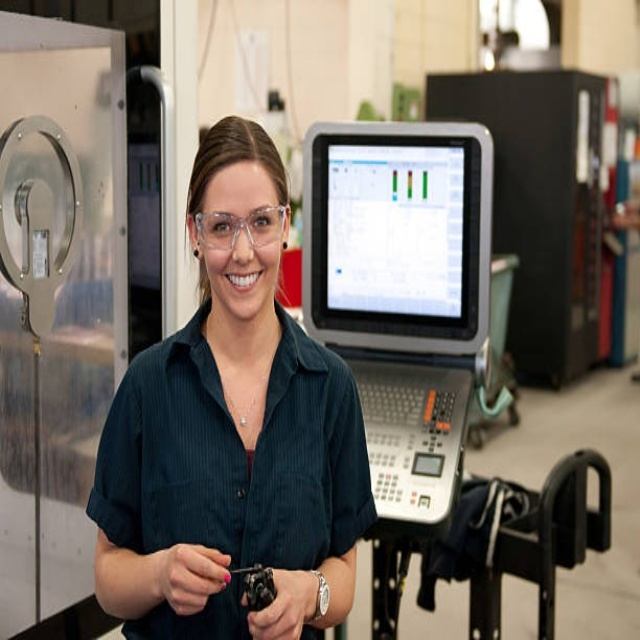Gafas: (194, 205, 288, 250)
Sin_guantes: (242, 566, 317, 637), (162, 542, 233, 616)
Sin_mascara: (218, 263, 268, 311)
